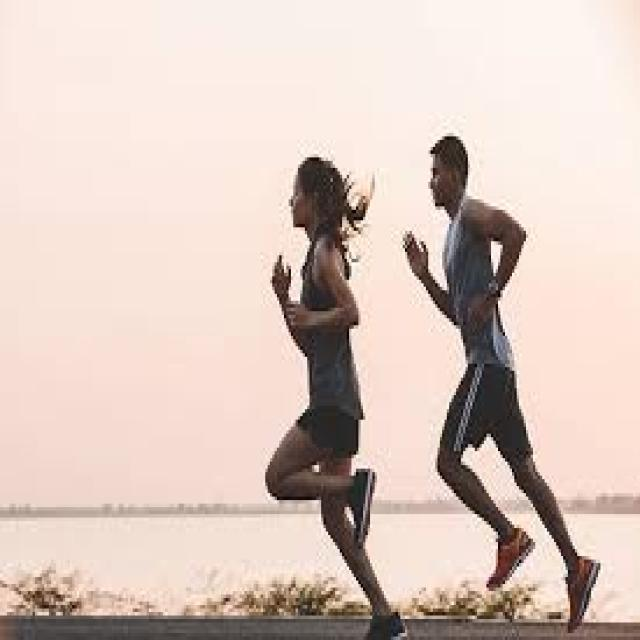Person: (400, 133, 600, 635), (263, 157, 408, 640)
